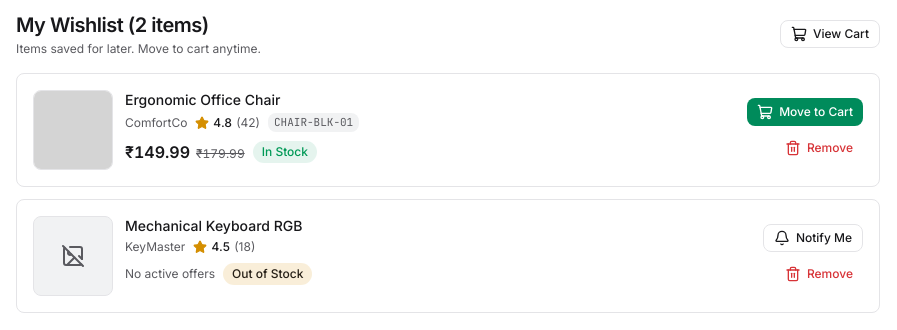
Test: Customer Wishlist Frontend Experience › 4. Handles Move to Cart flow on Wishlist Page
expect the link "Ergonomic Office Chair" is shown: met, box [125, 91, 280, 108]
Step 1. Click the button "Move to Cart" → (805, 112), box [747, 98, 863, 126]
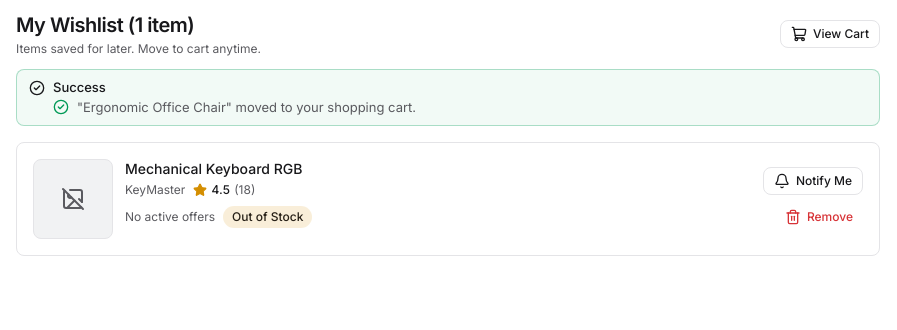
expect the text "\"Ergonomic Office Chair\" moved to your shopping cart." is shown: met, box [77, 98, 416, 117]
